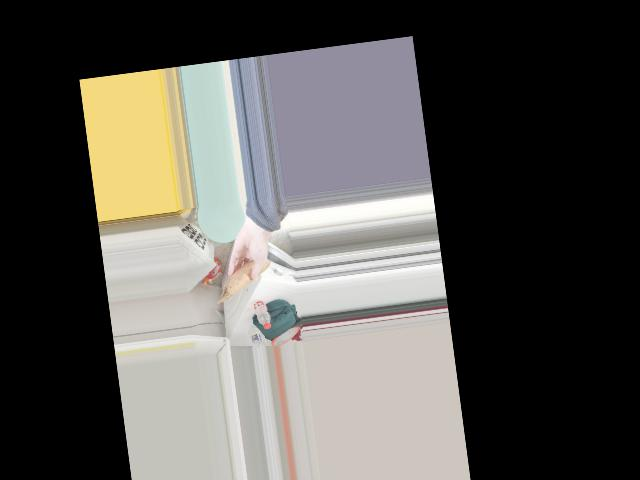sweet_potato: (228, 259, 263, 294)
